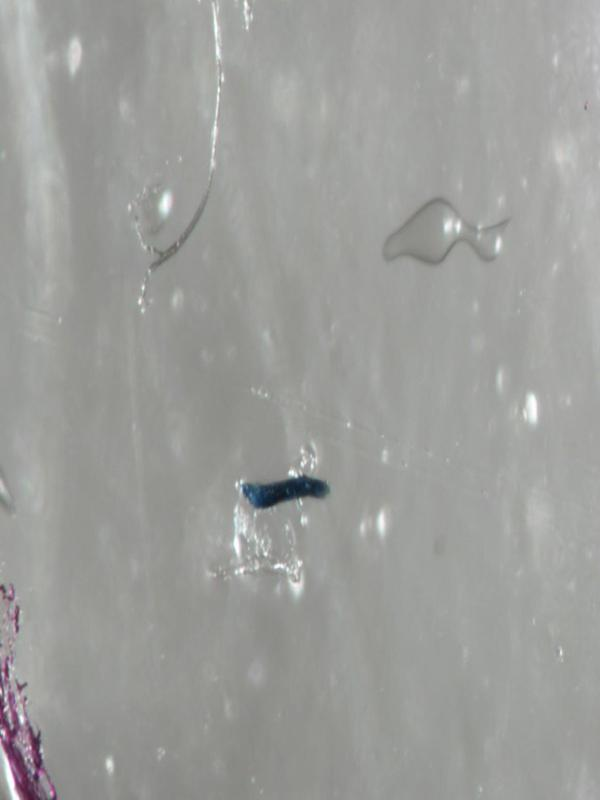microplastic: (382, 194, 511, 266), (240, 473, 330, 510)
